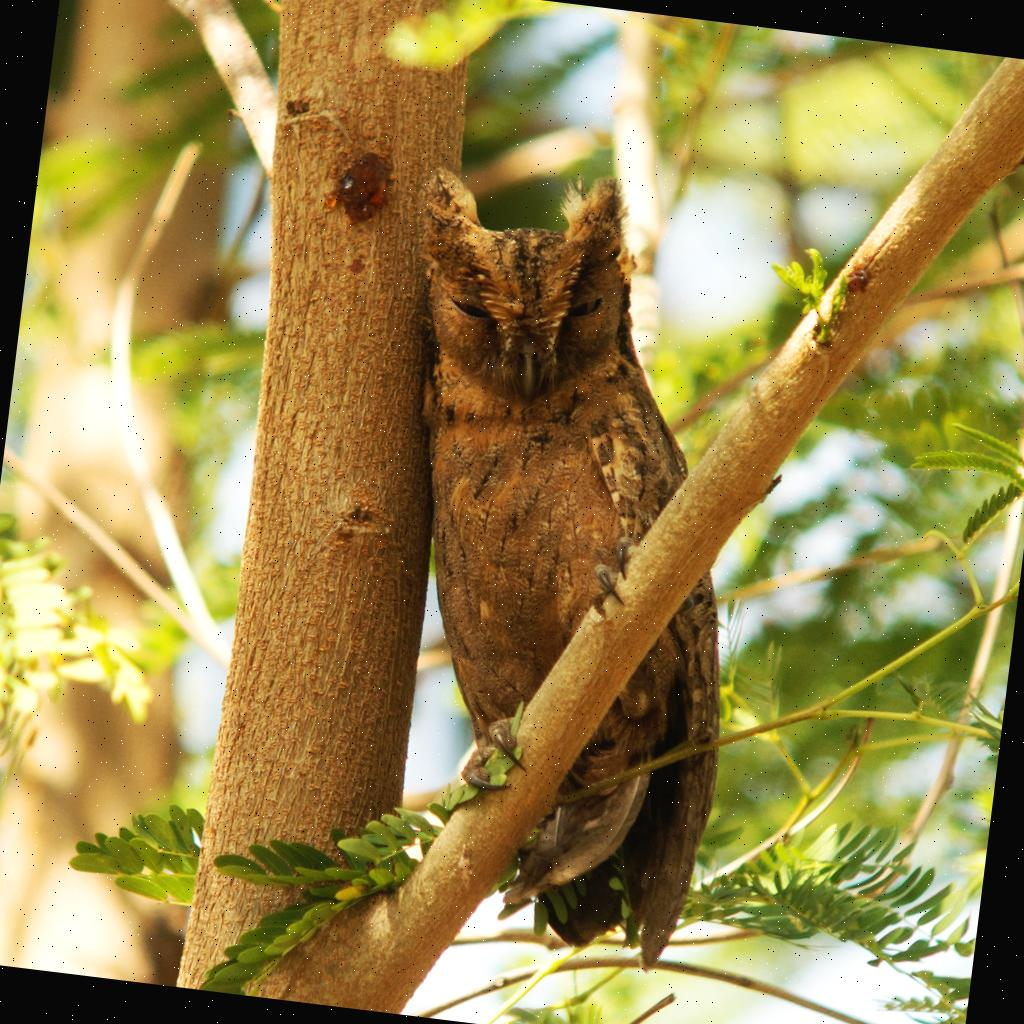Owl: (336, 172, 786, 986)
